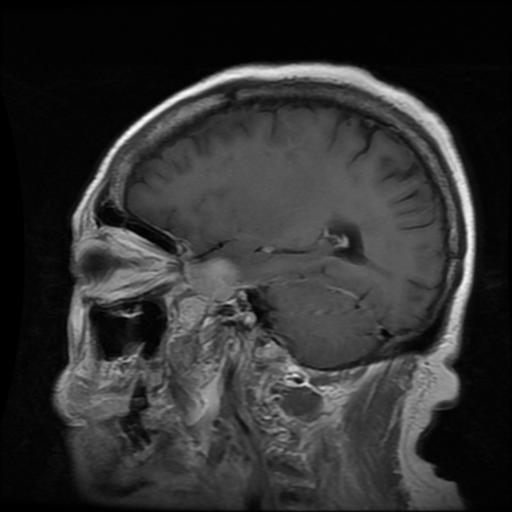Menigiomia_tumour: (185, 256, 240, 302)
